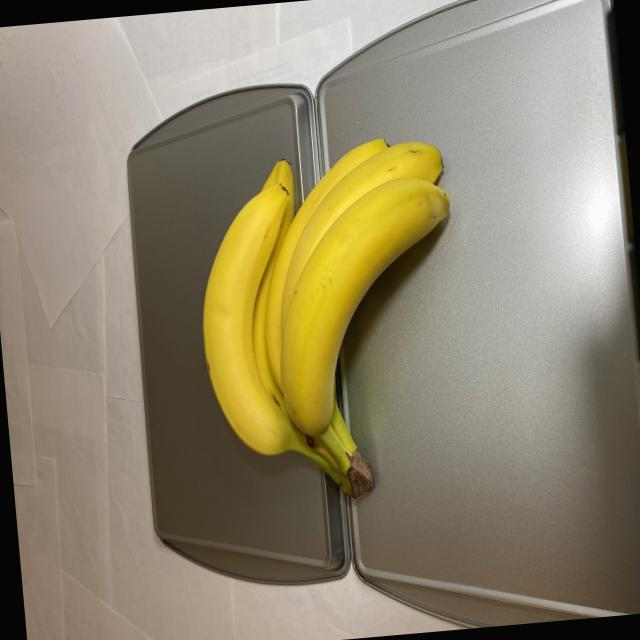banana: (188, 134, 478, 516)
